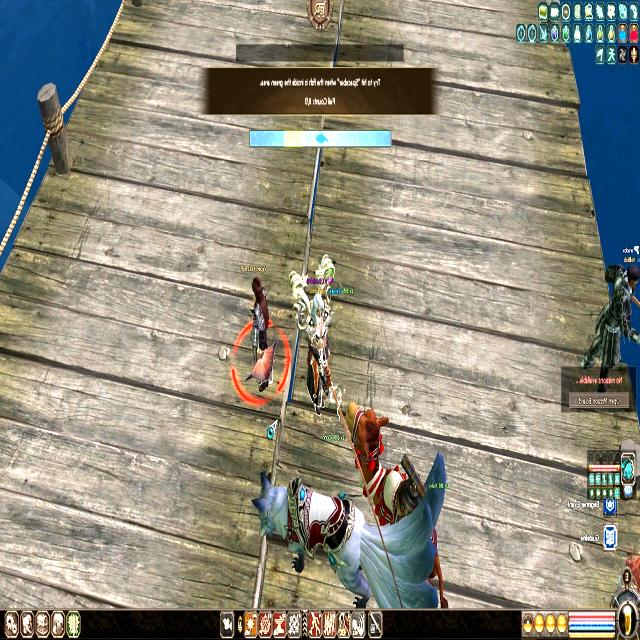fishes: (315, 132, 327, 145)
